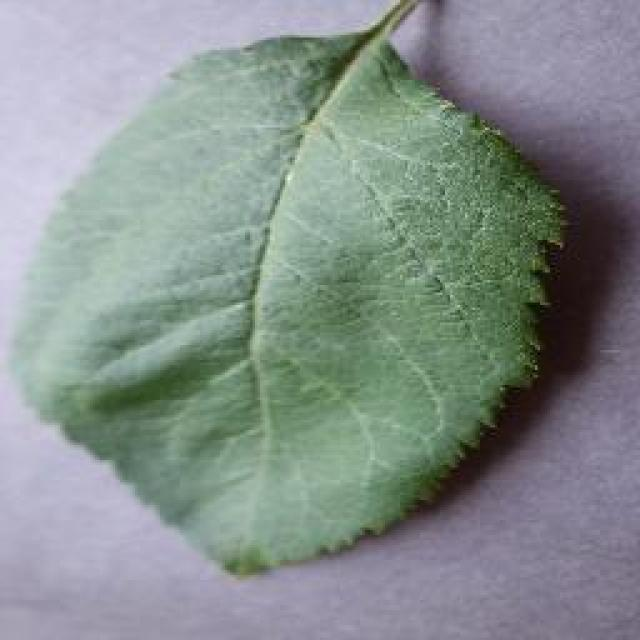apple healthy: (8, 0, 570, 578)
